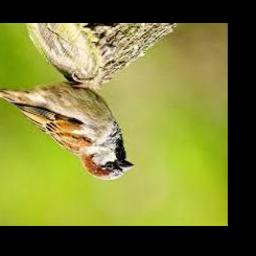Sparrow: (0, 71, 135, 181)
